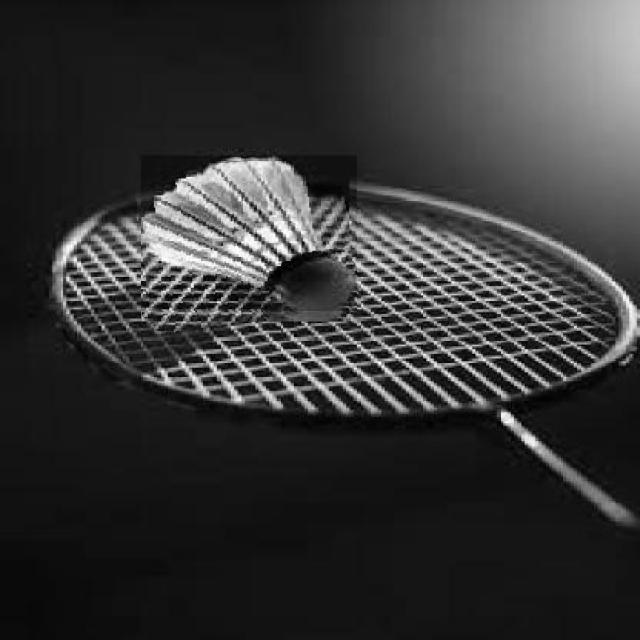Shuttlecock: (139, 155, 355, 309)
